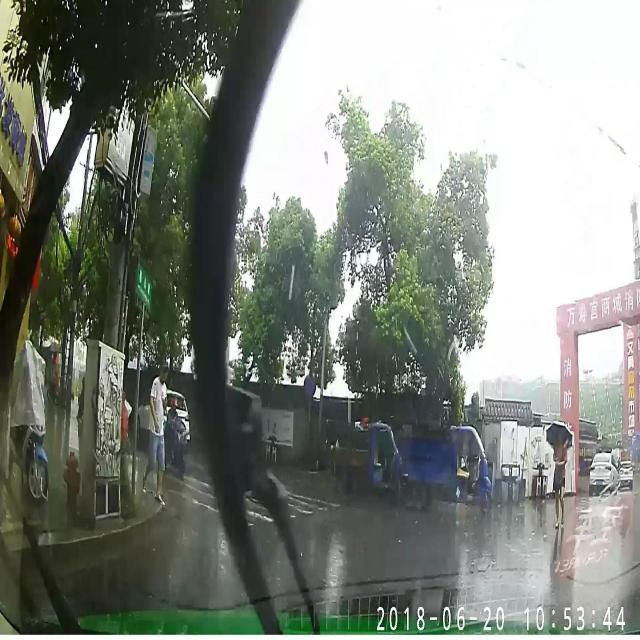car: (134, 388, 194, 447)
